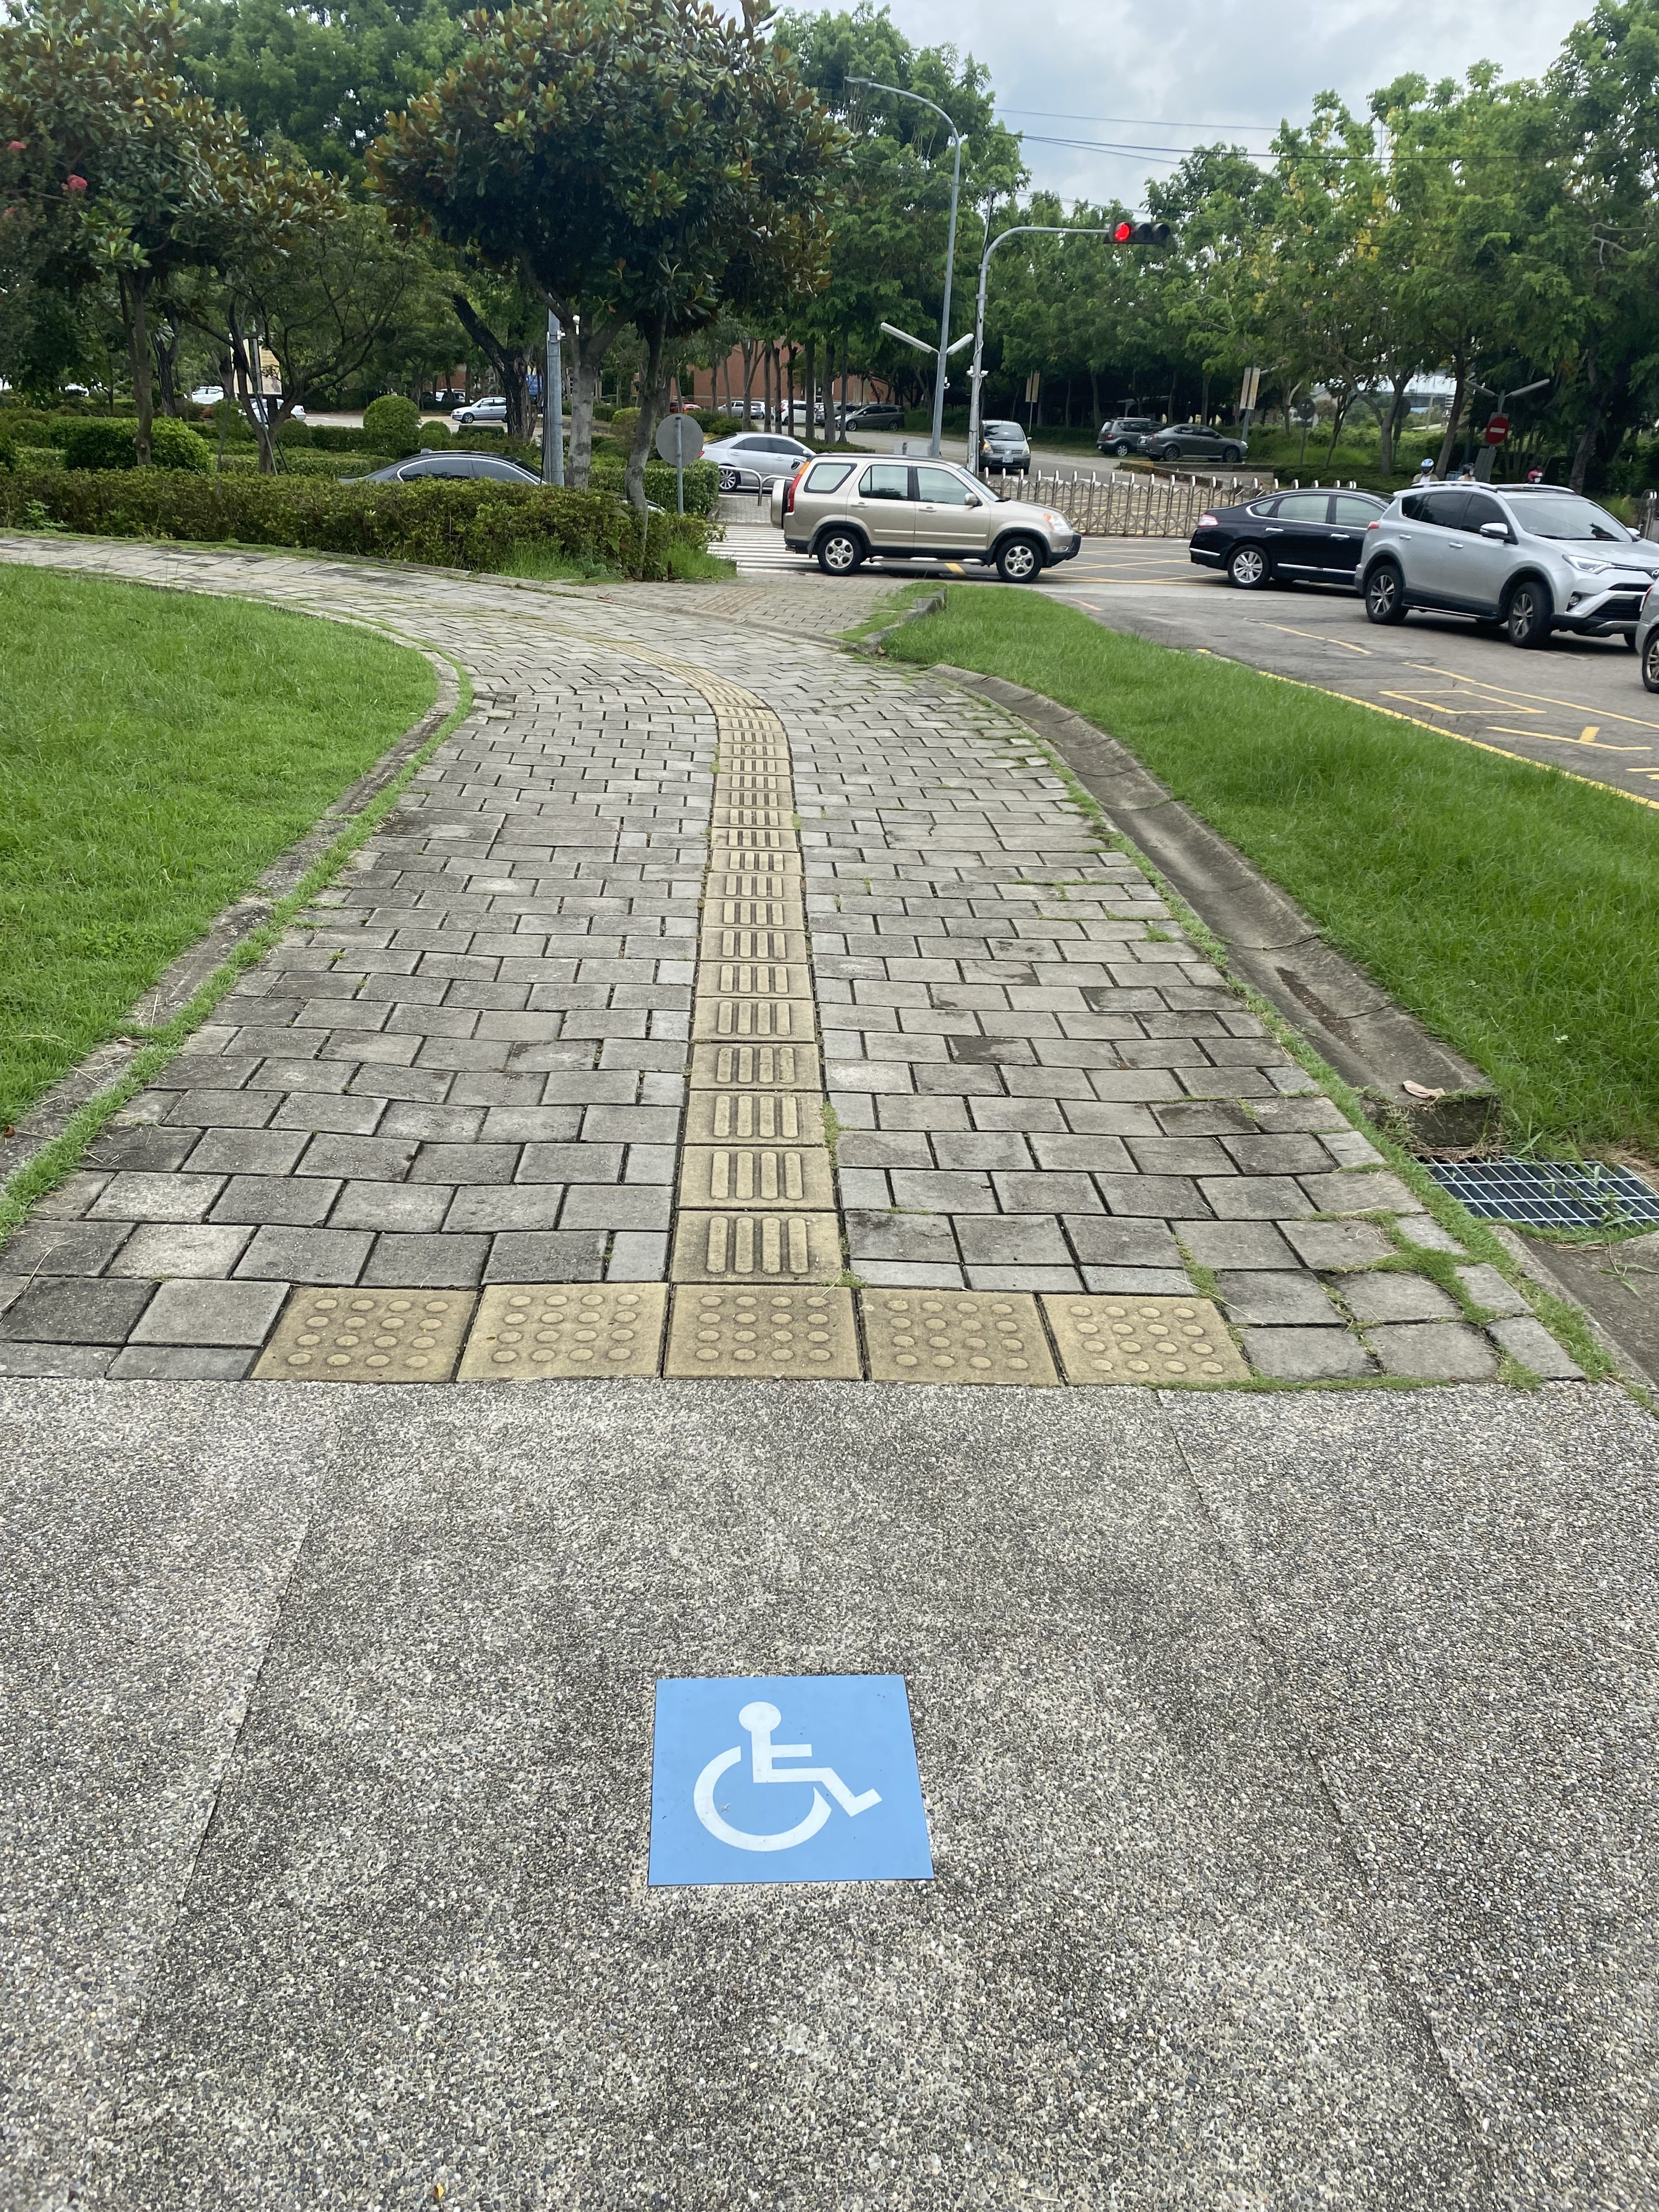sidewalk: (7, 519, 1659, 2212)
